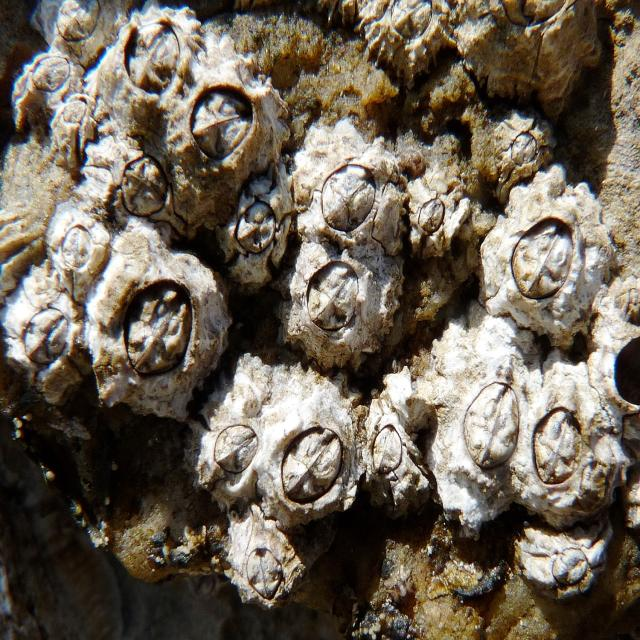barnacles: (82, 230, 228, 426), (482, 174, 609, 346), (160, 54, 285, 194), (254, 366, 360, 530), (430, 333, 530, 502), (283, 240, 403, 364), (518, 356, 594, 533), (294, 126, 398, 247), (0, 265, 87, 399), (193, 366, 264, 504), (220, 168, 293, 290), (225, 515, 310, 614), (355, 396, 426, 512), (105, 3, 183, 108), (355, 0, 457, 80), (514, 529, 610, 608), (114, 137, 174, 239), (404, 177, 471, 261), (50, 204, 104, 288), (491, 113, 561, 176), (46, 91, 99, 155), (12, 50, 78, 96)
